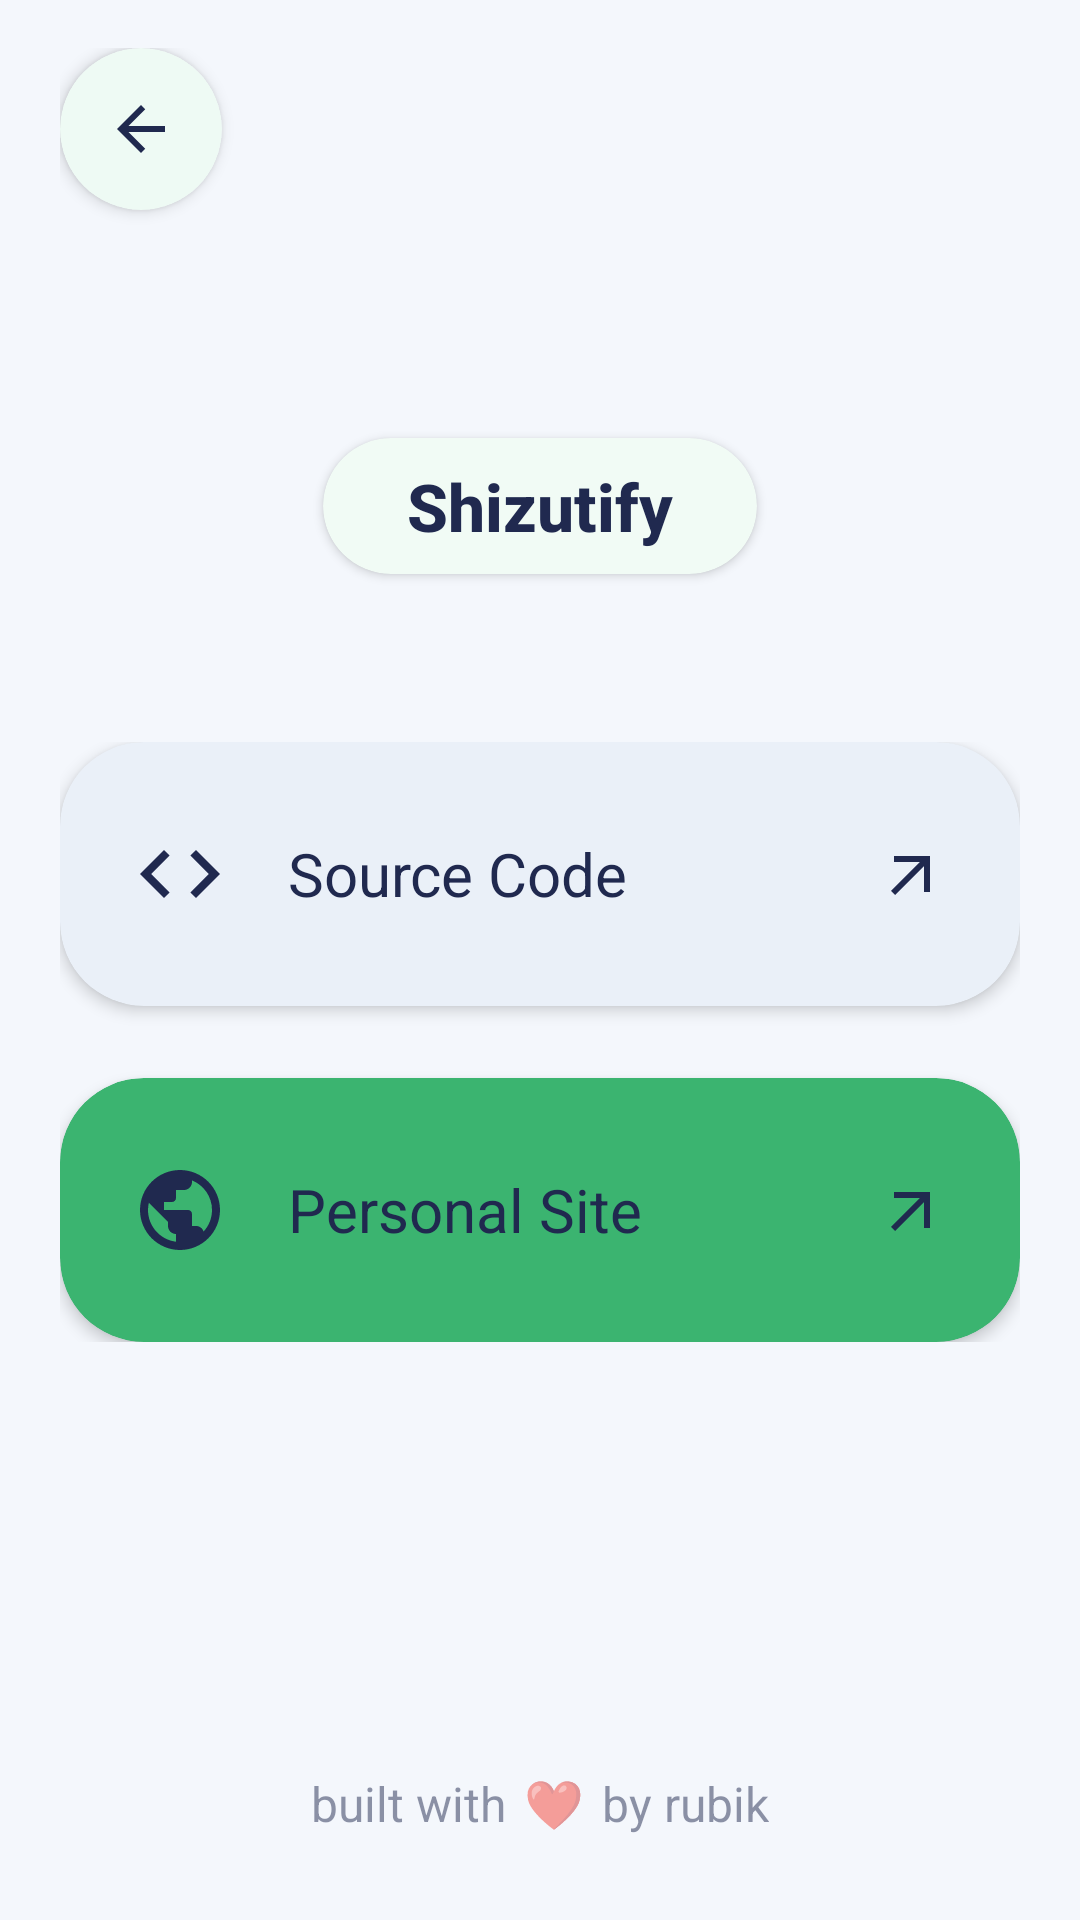

Icon bounding boxes for this 1080 x 1920 phone screenshot, format (x1, y1, x2, y2):
arrow back: (117, 105, 165, 153)
arrow outward: (891, 856, 930, 895), (891, 1192, 930, 1231)
globe: (140, 1170, 220, 1250)
